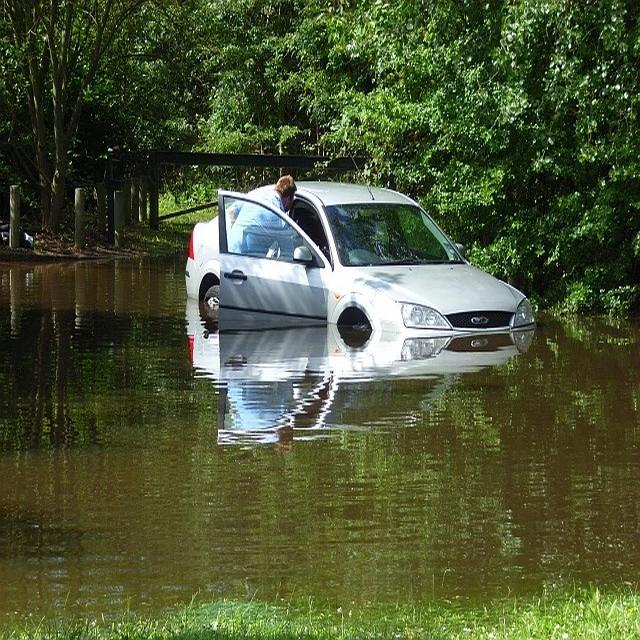Car-RiskLevel2: (173, 171, 560, 353)
